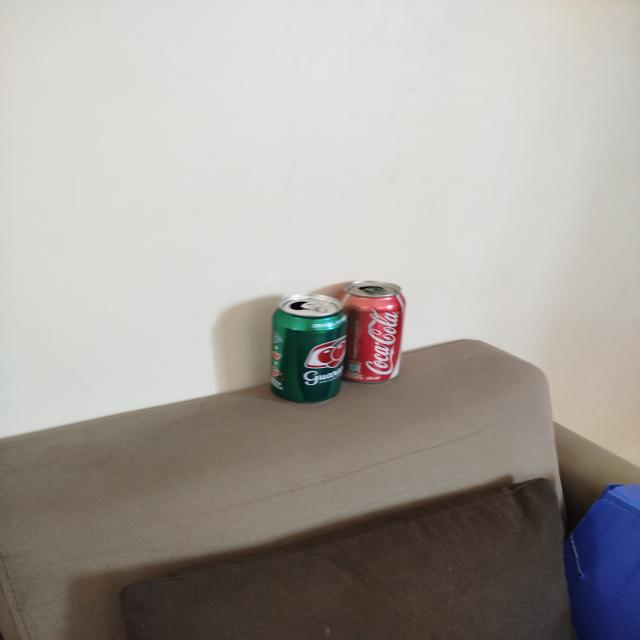Coca Cola: (340, 280, 407, 384)
Guarana: (268, 294, 349, 404)
